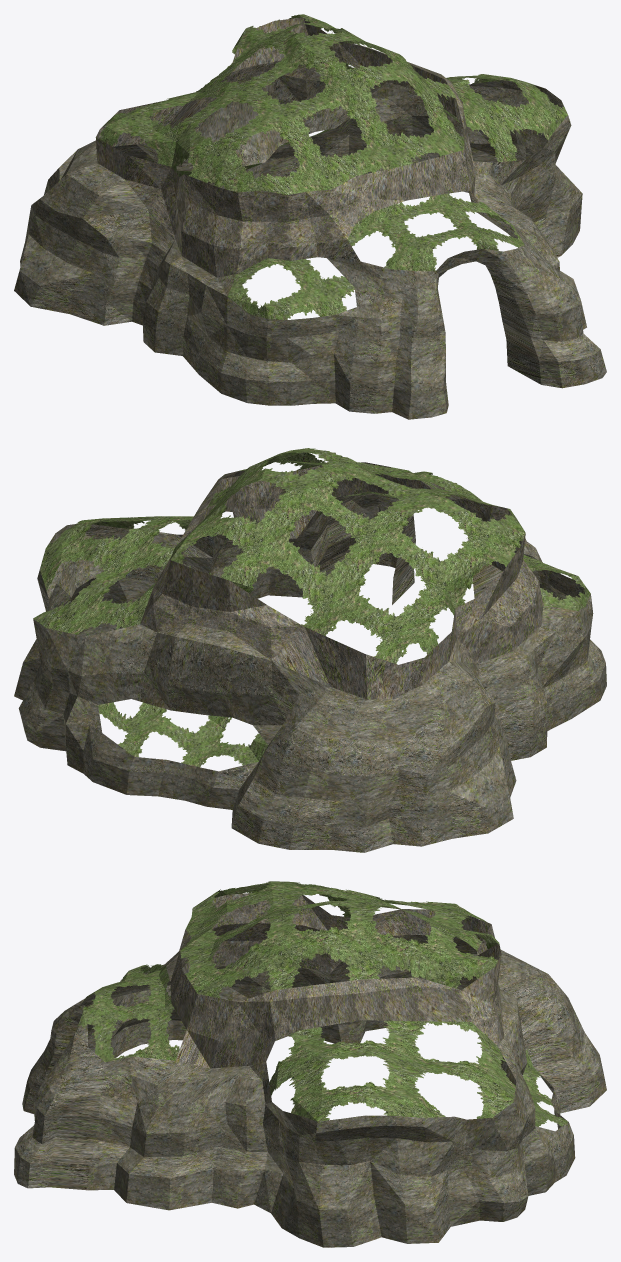
Rendered from poi_all_lair_cave_small_r0_mesh_l0.fbx.
The picture shows the model from 3 angles, top to bottom: view 1: azimuth 30°, elevation 25°; view 2: azimuth 150°, elevation 25°; view 3: azimuth 270°, elevation 25°; orthographic projection. The views are drawn at different scales.
Parts seen in each view (by area): view 1: mesh_node; view 2: mesh_node; view 3: mesh_node.
Part boxes in pixels (x1,y1,x2,y2): mesh_node: (14, 14, 606, 419); mesh_node: (14, 448, 606, 852); mesh_node: (14, 881, 606, 1247).
Bounding box in the file's own units: 24.68 × 11.37 × 26.49.
